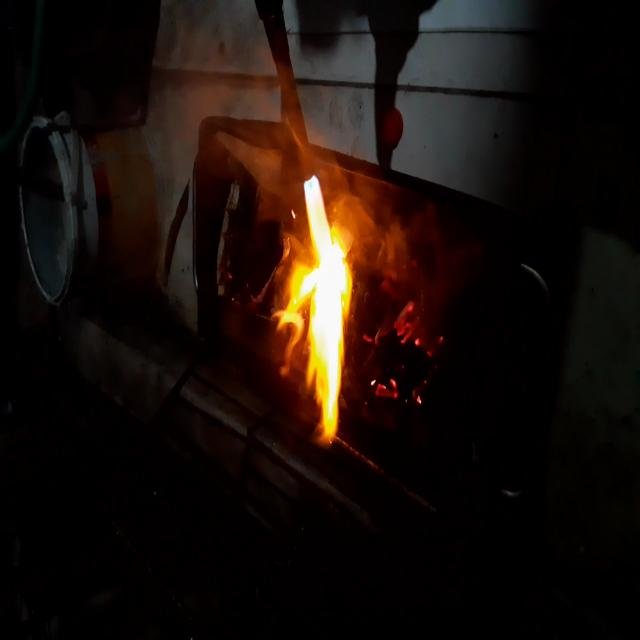Fire: (280, 162, 359, 466), (365, 276, 435, 419)
